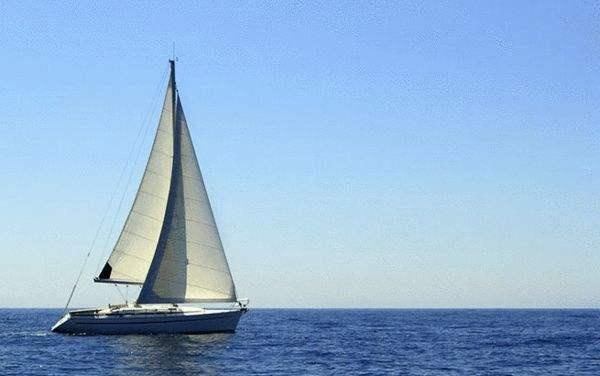fanchuan: (49, 47, 251, 337)
